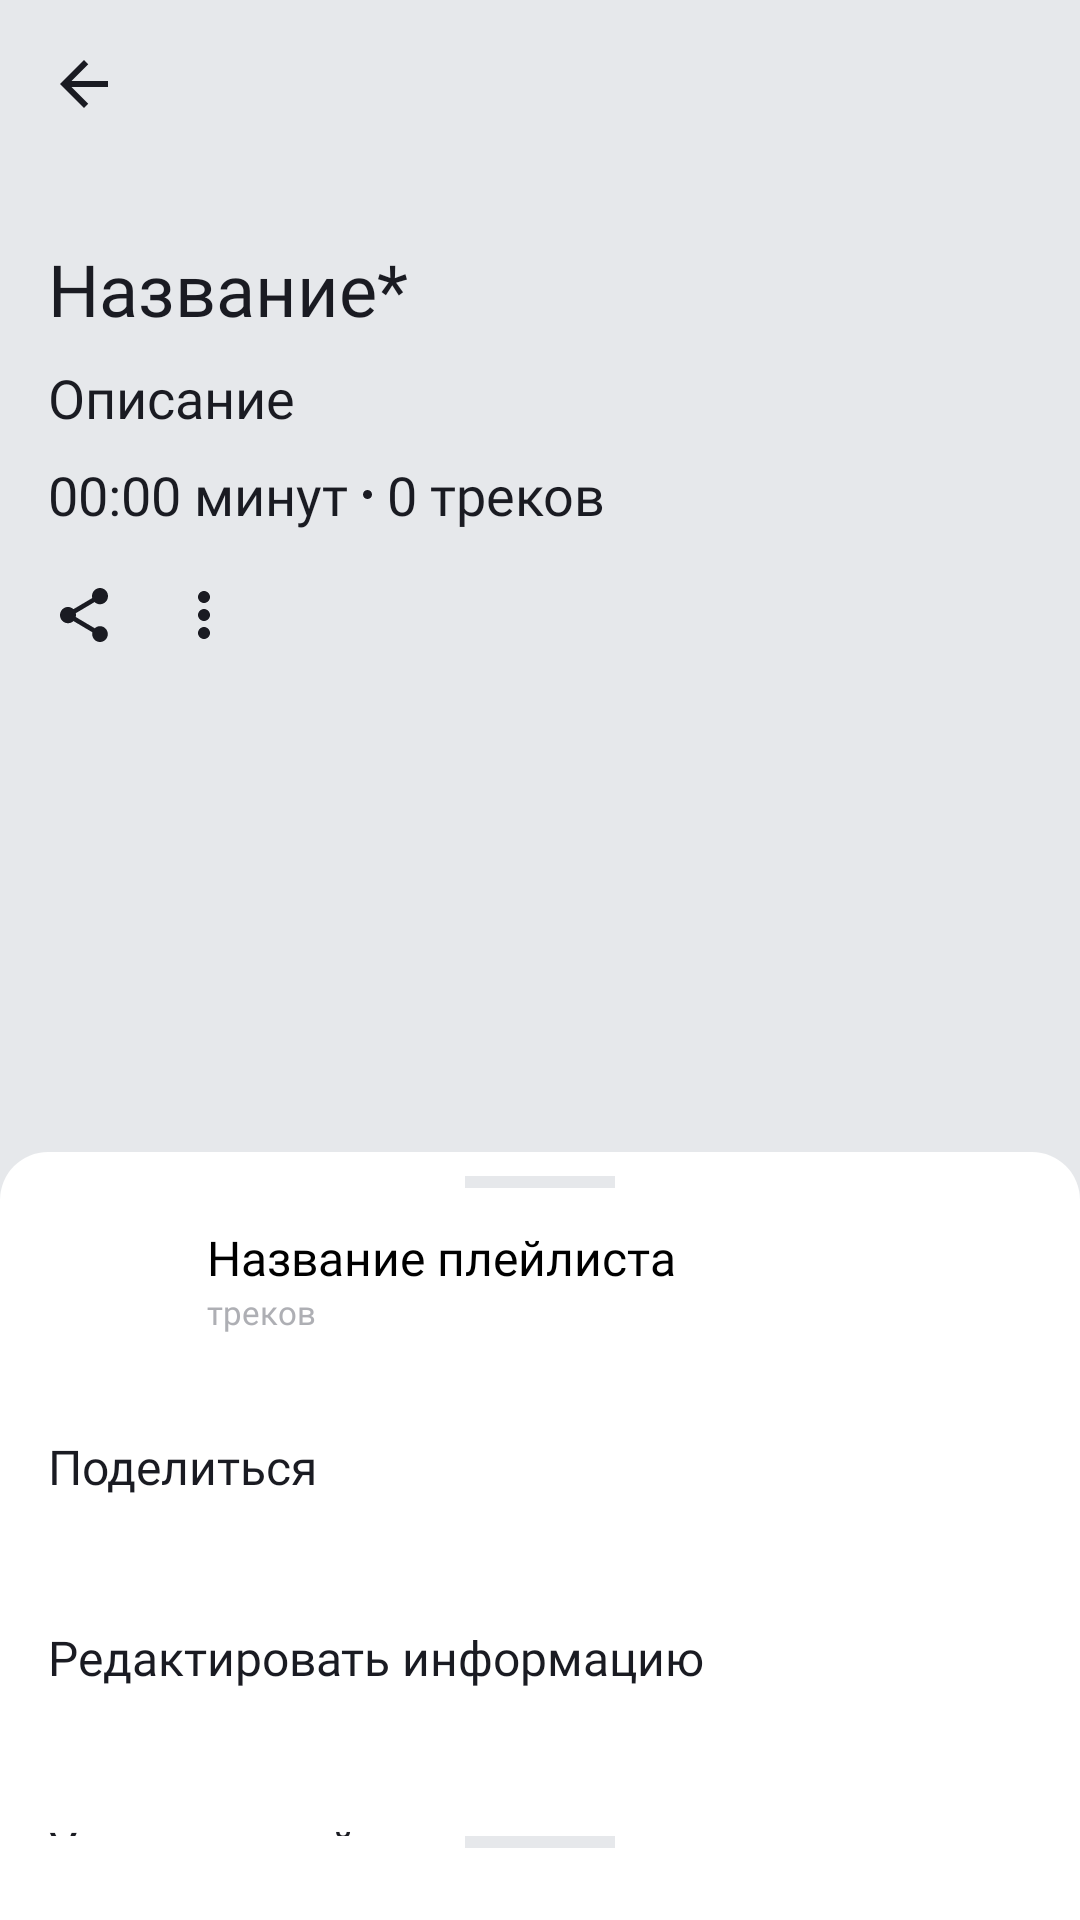

Named icons in this screenshot (1080w x 1920h) and their centers, [x,y]:
share: [84,615]
submenu: [204,615]
